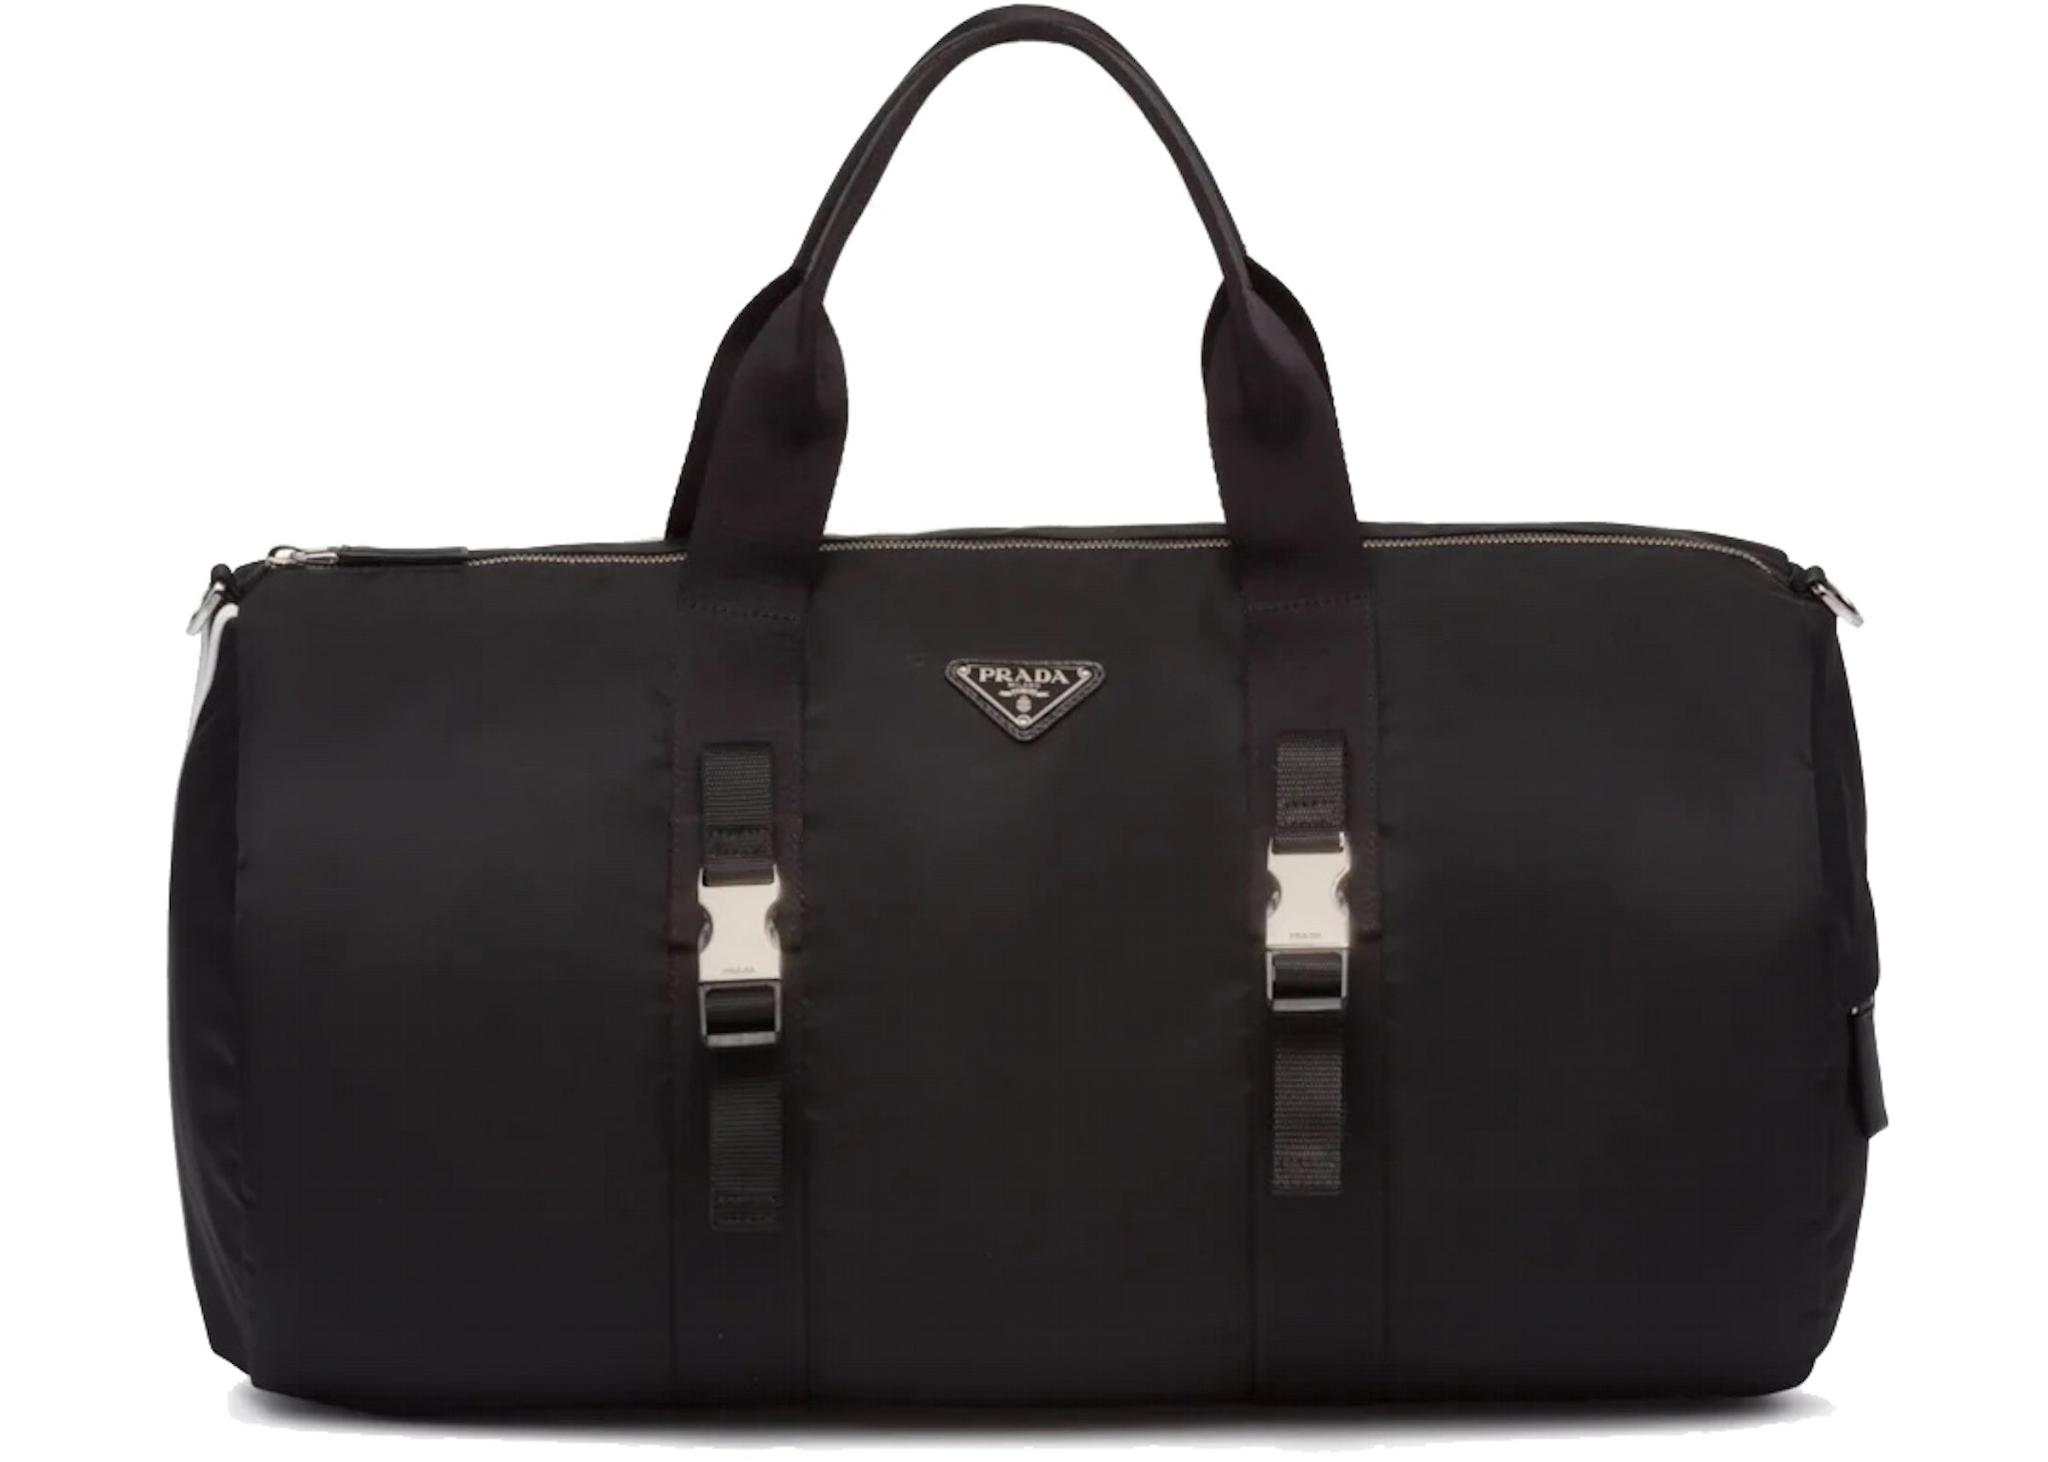PRADA: (957, 663, 1094, 728)
